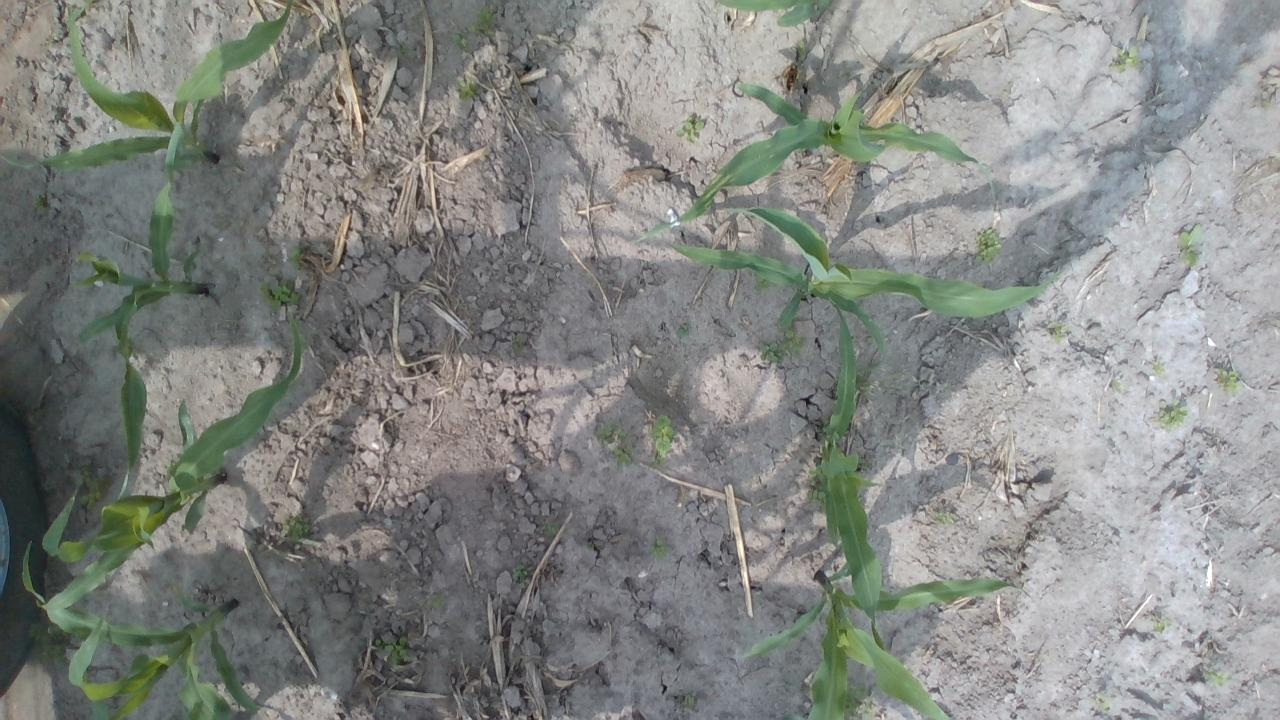Maize: (36, 310, 302, 614), (669, 206, 1064, 354), (639, 80, 1000, 238), (0, 0, 292, 172), (70, 126, 214, 461), (739, 568, 1032, 720), (21, 539, 259, 720), (813, 296, 885, 654), (719, 0, 834, 30)
Weeds: (592, 422, 632, 466), (760, 326, 808, 362), (70, 466, 105, 510), (839, 683, 878, 720), (648, 415, 676, 466), (258, 281, 302, 311), (375, 636, 414, 664), (674, 112, 706, 146), (1176, 223, 1200, 268), (1154, 401, 1189, 431), (974, 228, 1002, 264), (1212, 366, 1244, 397), (820, 417, 850, 450), (804, 464, 827, 507), (466, 6, 496, 36), (281, 515, 310, 544), (854, 366, 880, 392), (1112, 45, 1136, 73), (1203, 668, 1233, 690), (648, 534, 672, 561), (455, 76, 481, 98), (1050, 320, 1072, 346), (449, 31, 472, 49), (932, 510, 955, 527), (752, 270, 773, 288), (544, 518, 561, 537), (290, 248, 303, 270), (31, 194, 48, 210), (511, 564, 529, 579), (682, 689, 698, 705), (1153, 616, 1169, 632), (430, 594, 446, 609), (1097, 696, 1113, 711), (674, 320, 688, 337), (784, 710, 806, 720), (796, 38, 806, 56), (1152, 360, 1164, 375), (858, 463, 874, 472)
